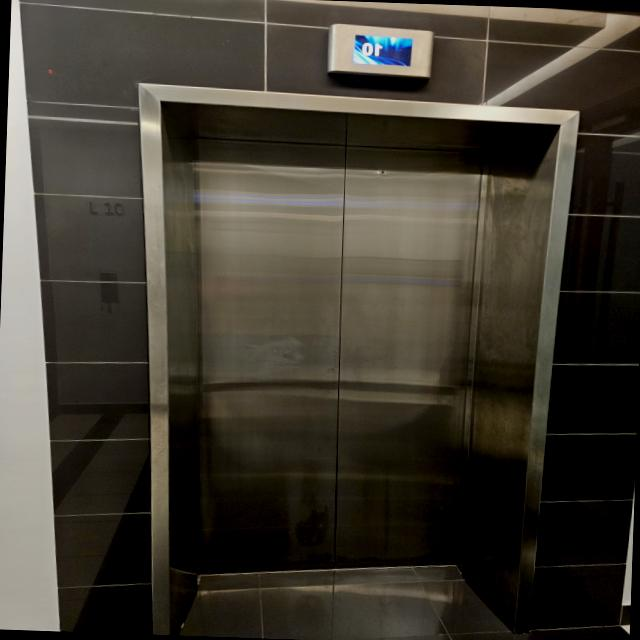elevator: (100, 76, 593, 640)
